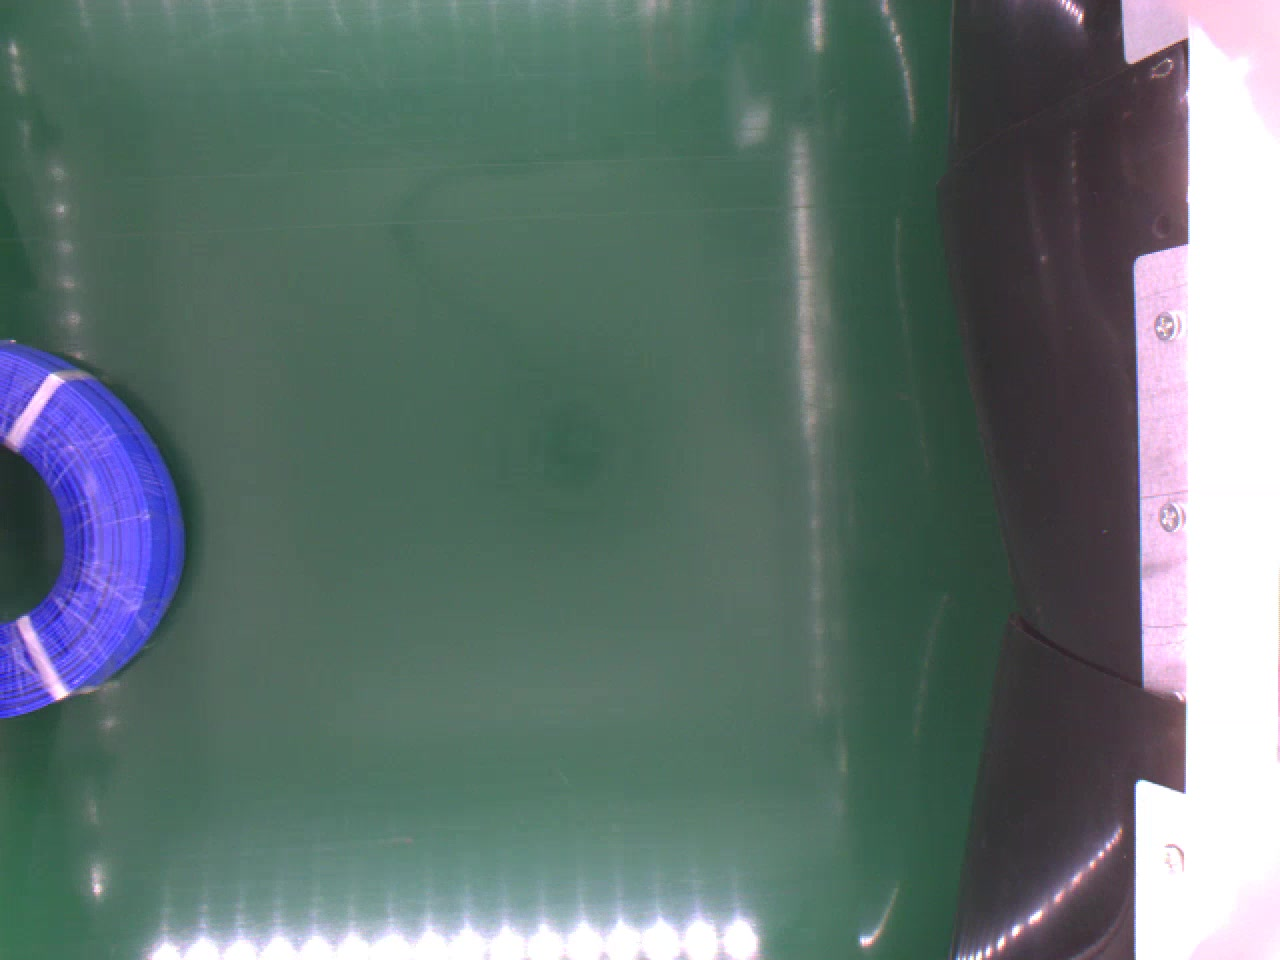blue: (0, 341, 184, 725)
